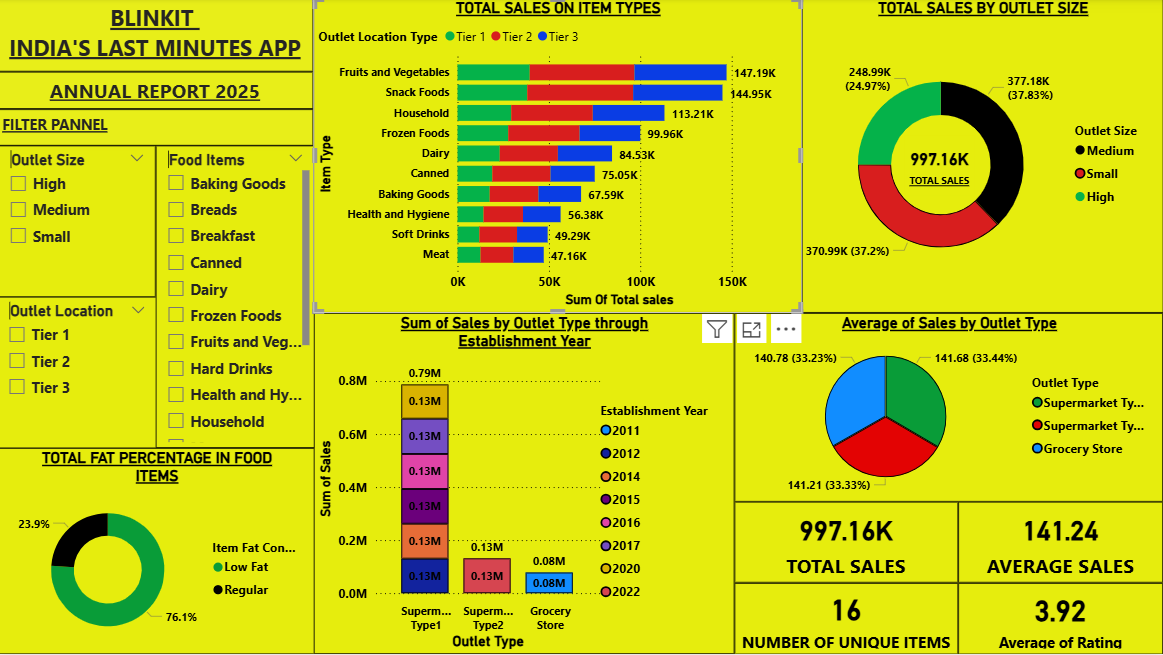

The dashboard page shown, as its layout file describes it:
{"tool":"powerbi","page":{"name":"Page 1","canvas":[1280,720],"ordinal":0},"visuals":[{"type":"barChart","title":"TOTAL SALES ON ITEM TYPES","fields":{"Category":["BlinkIT Grocery Data.Item Type"],"Y":["Sum(BlinkIT Grocery Data.Sales)"],"Series":["BlinkIT Grocery Data.Outlet Location Type"]},"box":[347.2,0,536.5,345.8],"z":0},{"type":"textbox","box":[0,0,347.2,81],"z":1000},{"type":"donutChart","title":"TOTAL SALES BY OUTLET SIZE","fields":{"Category":["BlinkIT Grocery Data.Outlet Size"],"Y":["Sum(BlinkIT Grocery Data.Sales)"]},"box":[883.7,0,396.6,345.8],"z":2000},{"type":"card","fields":{"Values":["Sum(BlinkIT Grocery Data.Sales)"]},"box":[996.2,150.9,76.8,65.9],"z":3000},{"type":"columnChart","title":"Sum of Sales by Outlet Type through Establishment Year","fields":{"Category":["BlinkIT Grocery Data.Outlet Type"],"Y":["Sum(BlinkIT Grocery Data.Sales)"],"Series":["BlinkIT Grocery Data.Outlet Establishment Year"]},"box":[347.2,345.8,462.4,374.6],"z":4000},{"type":"pieChart","fields":{"Category":["BlinkIT Grocery Data.Outlet Type"],"Y":["Avg(BlinkIT Grocery Data.Sales)"]},"box":[809.6,345.8,470.7,207.2],"z":5000},{"type":"card","fields":{"Values":["Sum(BlinkIT Grocery Data.Sales)"]},"box":[809.6,553,245.6,89.2],"z":6000},{"type":"card","fields":{"Values":["Avg(BlinkIT Grocery Data.Sales)"]},"box":[1055.2,553,225,89.2],"z":7000},{"type":"card","fields":{"Values":["CountNonNull(BlinkIT Grocery Data.Item Type)"]},"box":[809.6,642.2,245.6,78.2],"z":8000},{"type":"card","fields":{"Values":["Avg(BlinkIT Grocery Data.Rating)"]},"box":[1055.2,642.2,225,78.2],"z":9000},{"type":"slicer","fields":{"Values":["BlinkIT Grocery Data.Outlet Size"]},"box":[1.4,161.9,172.9,166],"z":10000},{"type":"card","fields":{"Values":["Count(BlinkIT Grocery Data.Item Type)"]},"box":[809.6,641.8,245.6,78.2],"z":11000},{"type":"slicer","fields":{"Values":["BlinkIT Grocery Data.Outlet Location Type"]},"box":[0,328,175.6,166],"z":12000},{"type":"slicer","fields":{"Values":["BlinkIT Grocery Data.Item Type"]},"box":[174.3,161.9,174.3,332.1],"z":13000},{"type":"textbox","box":[0,81,347.2,41.2],"z":14000},{"type":"textbox","box":[0,122.1,347.2,39.8],"z":15000},{"type":"donutChart","title":"TOTAL FAT PERCENTAGE IN FOOD ITEMS","fields":{"Category":["BlinkIT Grocery Data.Item Fat Content"],"Y":["CountNonNull(BlinkIT Grocery Data.Item Type)"]},"box":[1.4,494,347.2,226.4],"z":16000}]}

Visuals, with their boxes in screenshot pixels (x1, y1, x2, y2), scaled from the page's 1280x720 canvas onto the 1163x655 screenshot:
"TOTAL SALES ON ITEM TYPES" barChart: 315:0:803:315
textbox: 0:0:315:74
"TOTAL SALES BY OUTLET SIZE" donutChart: 803:0:1162:315
card - Sum(BlinkIT Grocery Data.Sales): 905:137:975:197
"Sum of Sales by Outlet Type through Establishment Year" columnChart: 315:315:736:654
pieChart - BlinkIT Grocery Data.Outlet Type x Avg(BlinkIT Grocery Data.Sales): 736:315:1162:503
card - Sum(BlinkIT Grocery Data.Sales): 736:503:959:584
card - Avg(BlinkIT Grocery Data.Sales): 959:503:1162:584
card - CountNonNull(BlinkIT Grocery Data.Item Type): 736:584:959:654
card - Avg(BlinkIT Grocery Data.Rating): 959:584:1162:654
slicer - BlinkIT Grocery Data.Outlet Size: 1:147:158:298
card - Count(BlinkIT Grocery Data.Item Type): 736:584:959:654
slicer - BlinkIT Grocery Data.Outlet Location Type: 0:298:160:449
slicer - BlinkIT Grocery Data.Item Type: 158:147:317:449
textbox: 0:74:315:111
textbox: 0:111:315:147
"TOTAL FAT PERCENTAGE IN FOOD ITEMS" donutChart: 1:449:317:654
